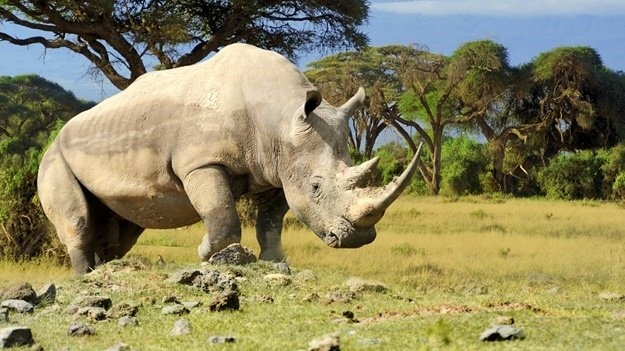rhino: (32, 37, 427, 280)
